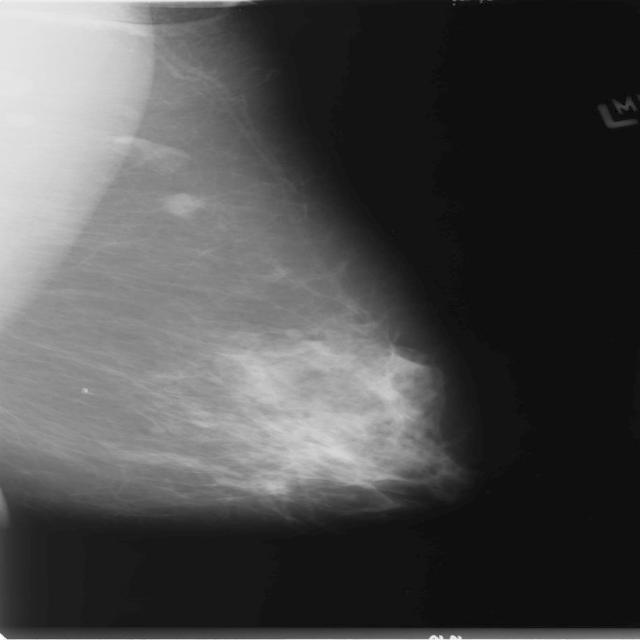tumour: (163, 192, 202, 217)
